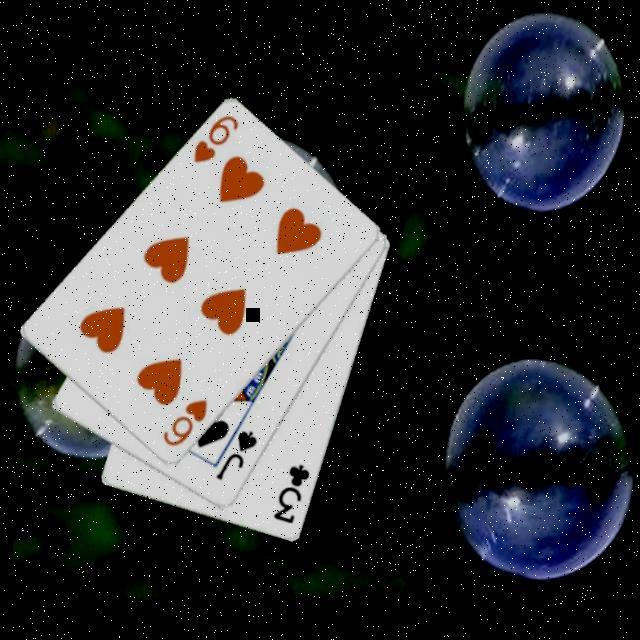3C: (268, 462, 316, 529)
6H: (158, 396, 214, 452), (189, 113, 245, 168)
JS: (210, 428, 264, 485)
